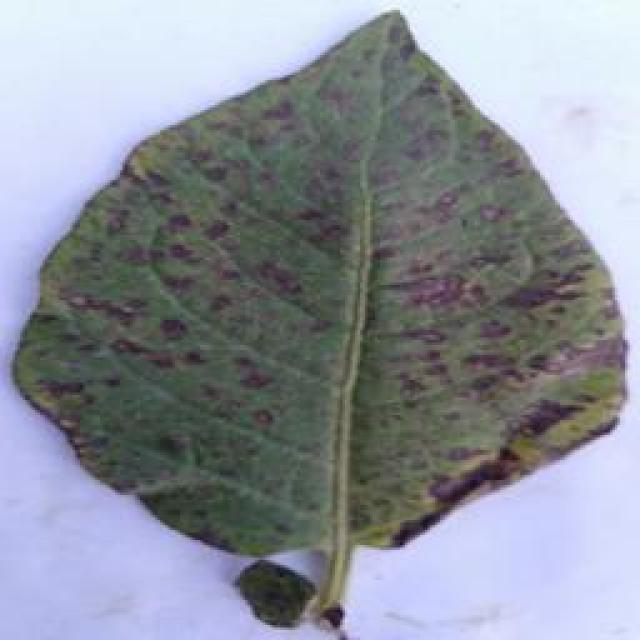Potato_Early_Blight: (19, 9, 640, 568)
